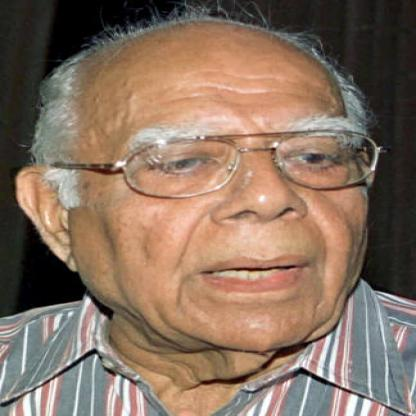face: (64, 22, 395, 358)
